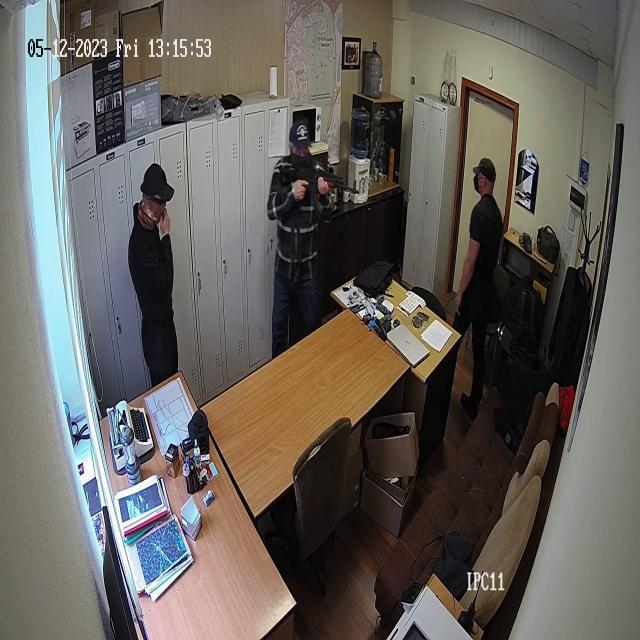pistol: (281, 168, 359, 223)
